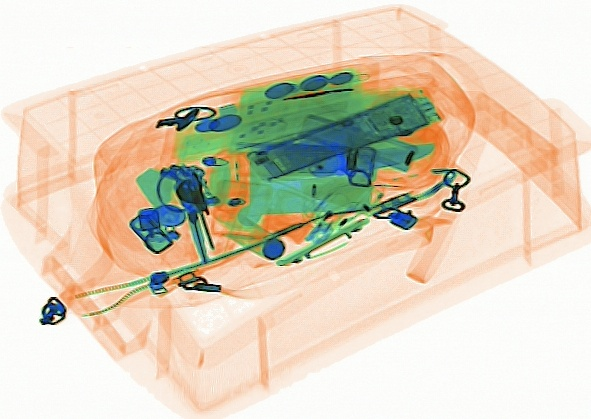lighter: (301, 162, 377, 245)
